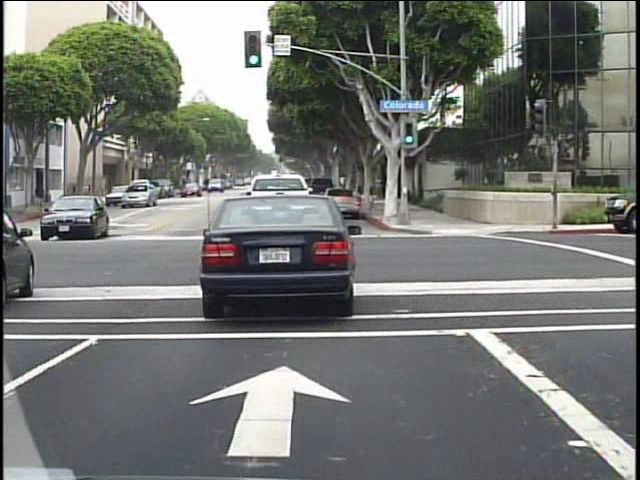person: (36, 181, 47, 212)
